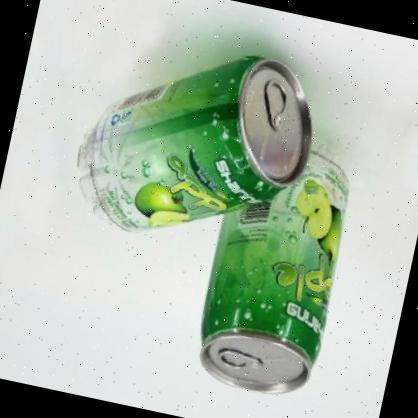can: (187, 126, 361, 404)
